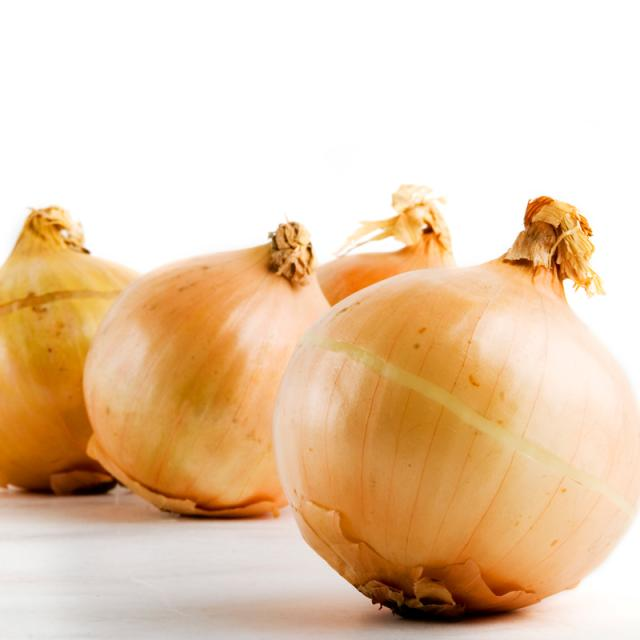onion: (1, 190, 640, 626), (273, 188, 640, 623), (85, 218, 348, 525)
